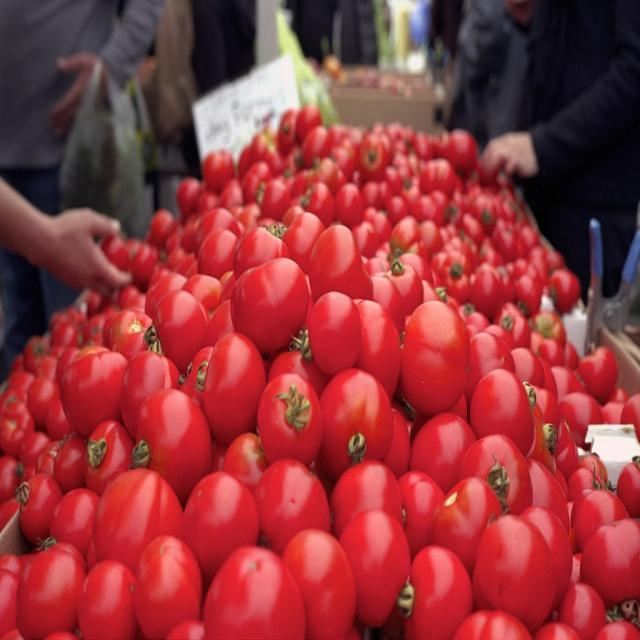Tomato: (0, 103, 639, 639), (232, 249, 313, 354)
